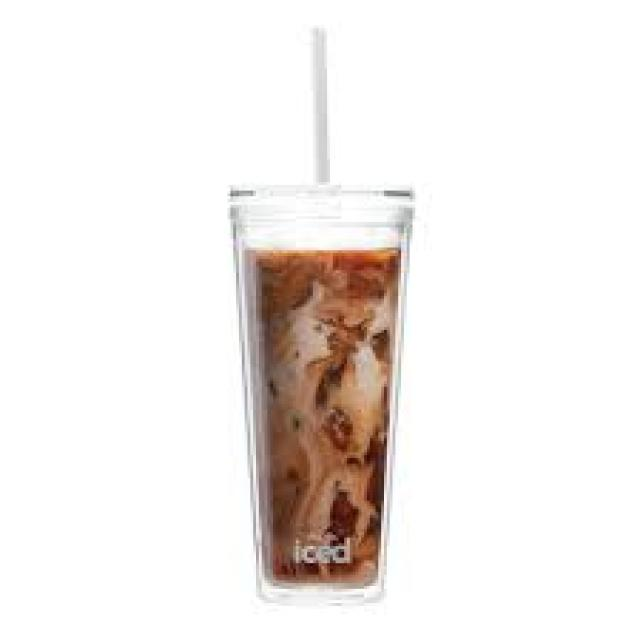bottle: (234, 186, 414, 601)
